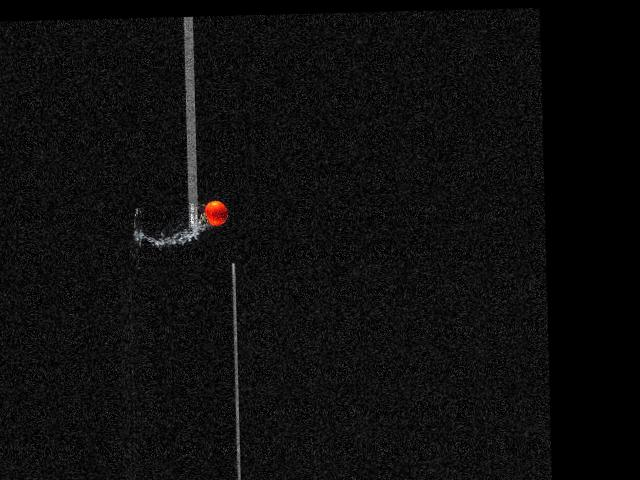tomato: (204, 200, 227, 226)
